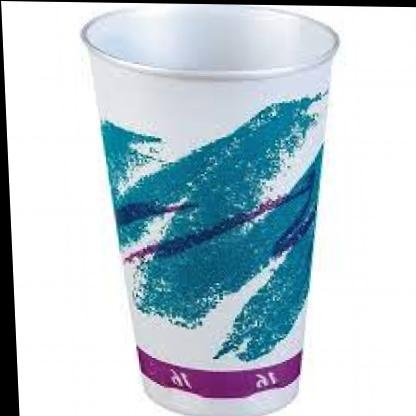trash: (82, 5, 338, 415)
